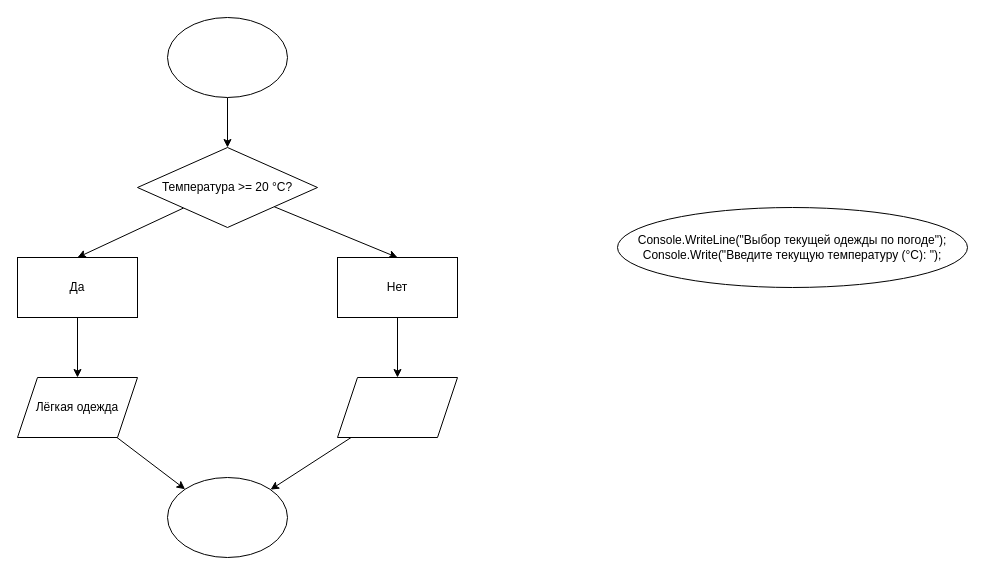
The diagram is 985 pixels wide and 575 high, and some of its shapes have lost their labels. The box of each missing label's shape, as (x1, y1, x2, y2) in pixels:
Конец: (166, 476, 288, 558)
Начало: (166, 16, 288, 98)
Тёплая одежда: (336, 376, 458, 438)
